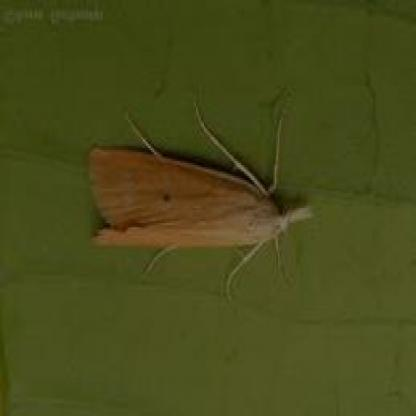stem-borer: (86, 102, 314, 309)
